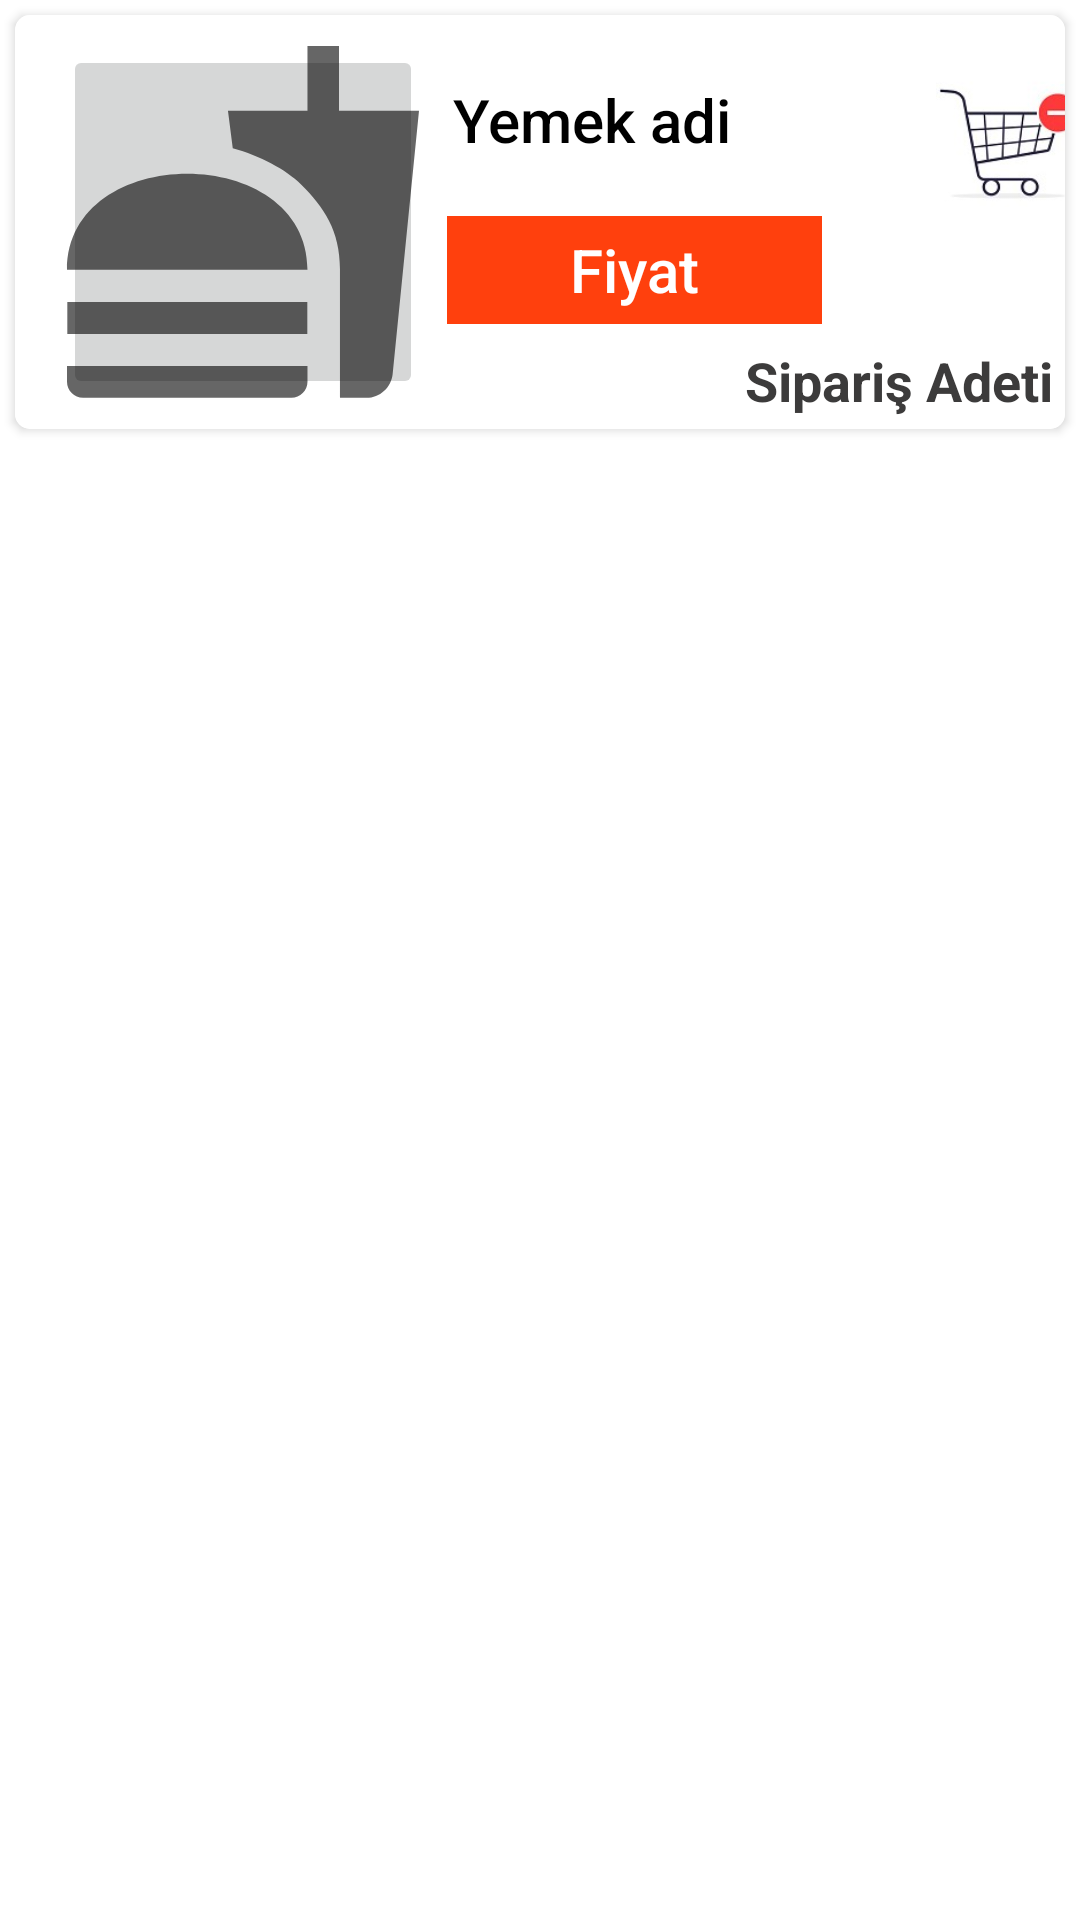

Where icons sit on this 1080×1920 app screen, as (left=x1, top=y1, right=x2, bottom=y2):
yemek resimleri: (left=67, top=46, right=419, bottom=398)
